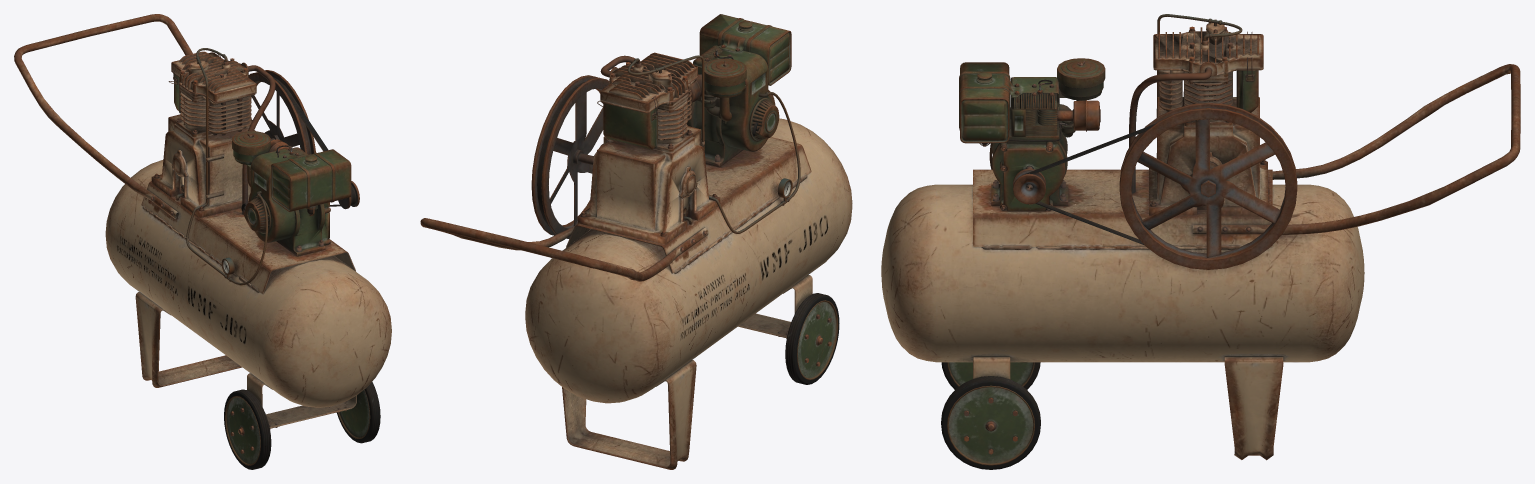
The model's file is old_military_compressor.glb.
3 renders of one model, left to right at view 1: azimuth 30°, elevation 25°; view 2: azimuth 150°, elevation 25°; view 3: azimuth 270°, elevation 25°, orthographic. The views are drawn at different scales.
Parts seen in each view (by area): view 1: old_military_compressor; view 2: old_military_compressor; view 3: old_military_compressor.
Part boxes in pixels (<box>): old_military_compressor: <box>14,14,391,469</box>; old_military_compressor: <box>420,14,852,469</box>; old_military_compressor: <box>881,14,1520,469</box>.
Bounding box in the file's own units: 0.5983 × 1.18 × 1.68.
2 materials, 2 textured.
